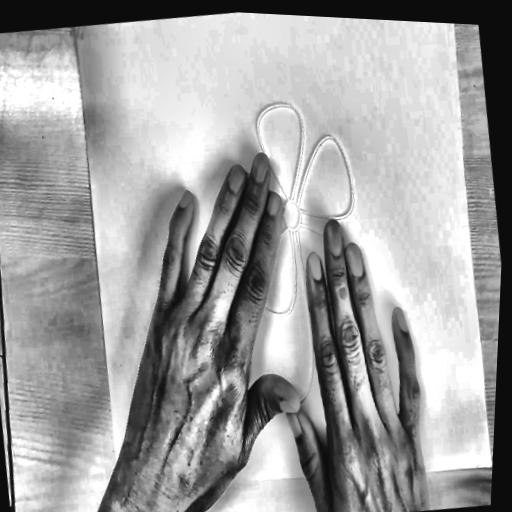bottom_left: (483, 453, 493, 473)
bottom_right: (113, 474, 126, 493)
flower: (204, 85, 379, 423)
